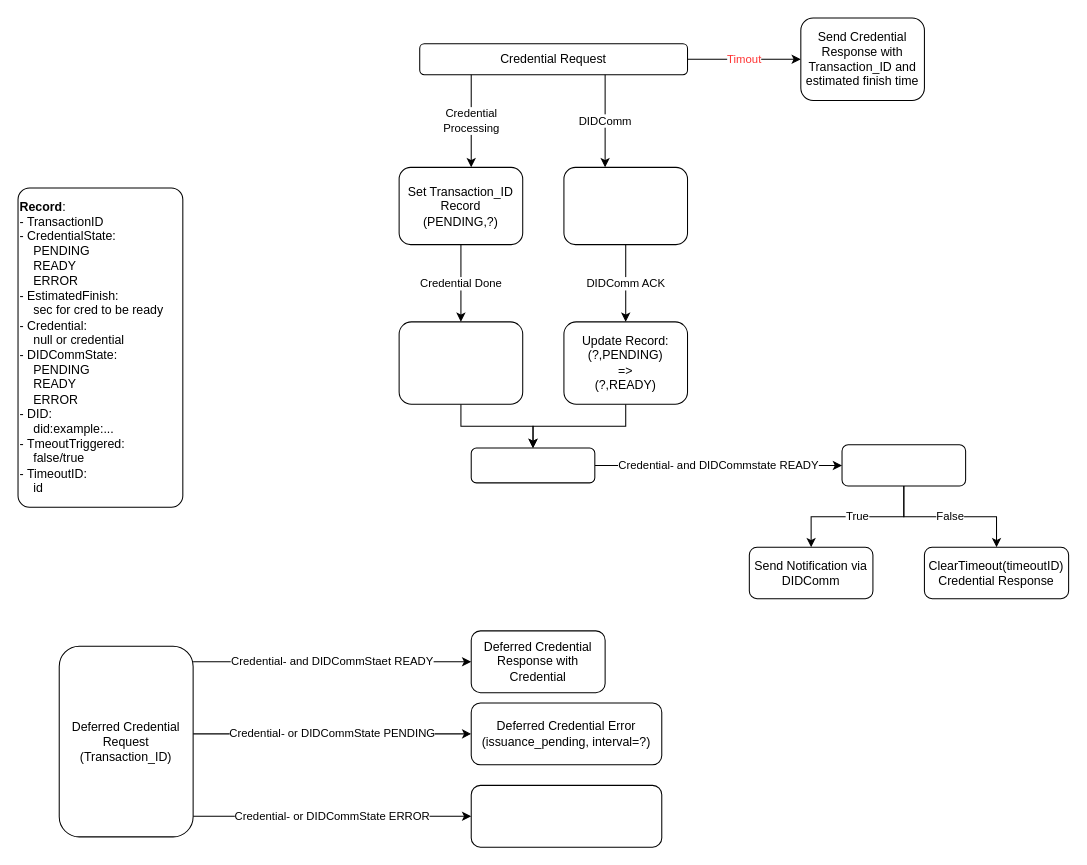
This 1087x865 diagram has some shape labels left out. Here are the shapes that lost their labels. From the top down, the box of each, then its label:
(563, 166, 688, 245): Set Transaction_ID Record (?,PENDING)
(398, 321, 523, 404): Update Record: (PENDING,?) => (READY,?)
(470, 447, 595, 483): TrySend()
(841, 444, 966, 486): Timout?
(470, 784, 662, 847): Deferred Credential Error (Somthing went wrong)
